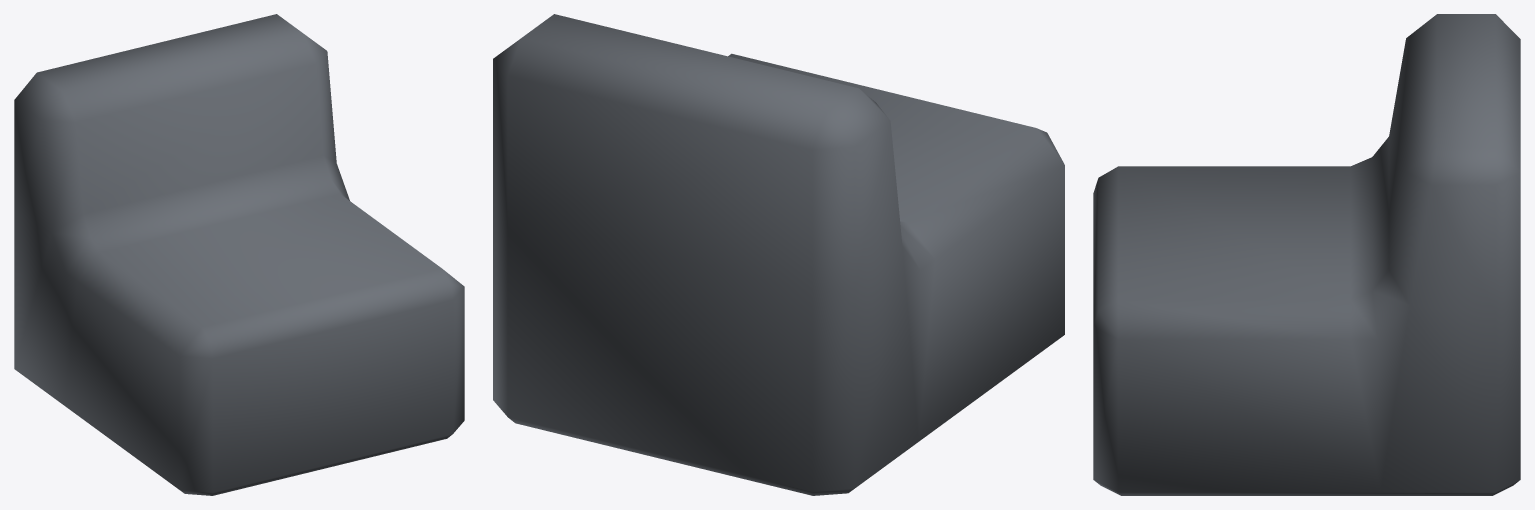
The model's file is sofa4.FBX.
3 views of the same model, side by side, from view 1: azimuth 30°, elevation 25°; view 2: azimuth 150°, elevation 25°; view 3: azimuth 270°, elevation 25° (orthographic). The views are drawn at different scales.
Visible parts, largest first — view 1: sofa4; view 2: sofa4; view 3: sofa4.
Boxes of the visible parts, x1,y1,x2,y2 form: sofa4: [14, 14, 464, 495]; sofa4: [493, 14, 1064, 495]; sofa4: [1093, 14, 1520, 495].
Size of the model in its own units: 87.2 by 86.93 by 99.18.
1 material, 1 textured.
